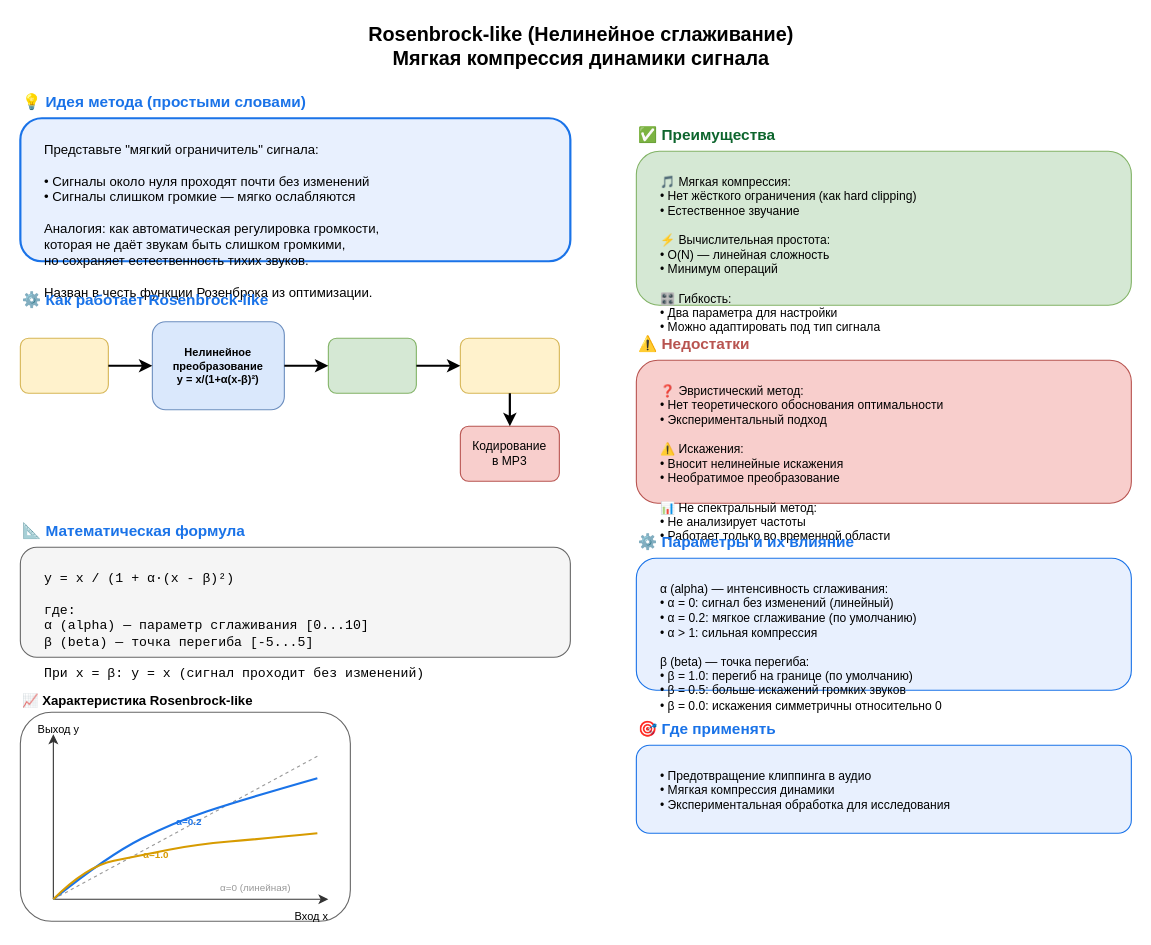
Some shapes in this 1151 by 945 pixel diagram are drawn without their labels. Here are the shapes that lost their labels. From the top down, the centre of each, then its label:
pixel 63 365: Входной сигнал x[n]
pixel 371 365: Нормировка пика
pixel 509 365: Восстановленный сигнал
